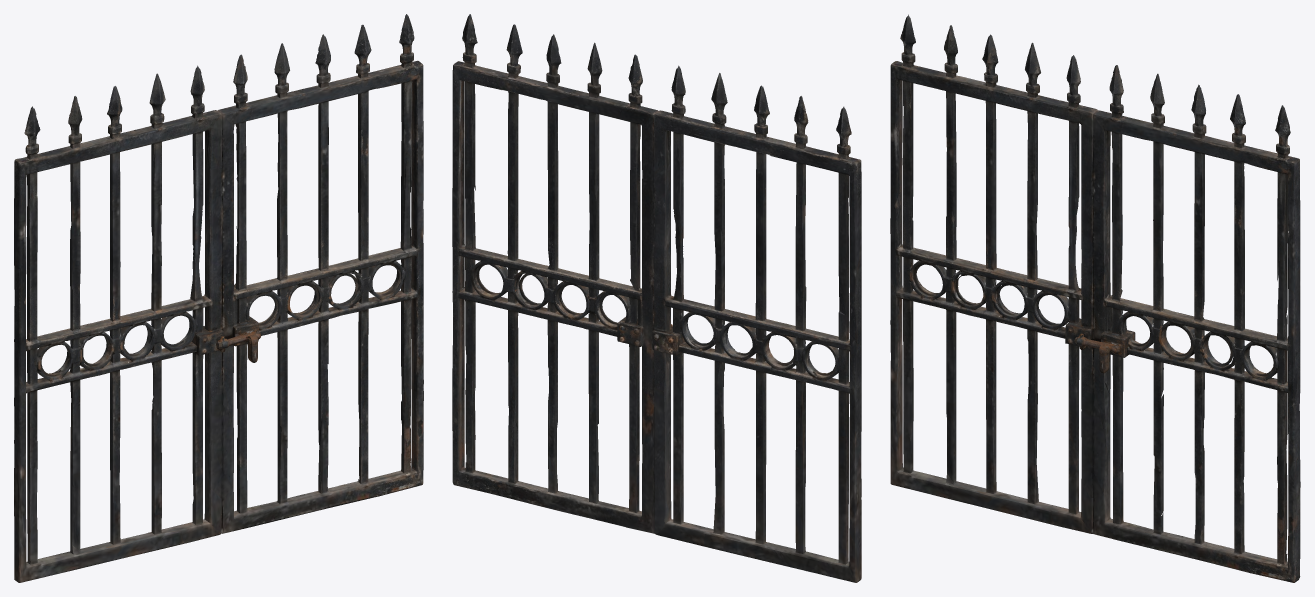
File: w5gate.glb
3 views of the same model, side by side, from view 1: azimuth 30°, elevation 25°; view 2: azimuth 150°, elevation 25°; view 3: azimuth 330°, elevation 25° (orthographic).
Parts seen in each view (by area): view 1: output_unwrapped; view 2: output_unwrapped; view 3: output_unwrapped.
Part boxes in pixels (x1=…): output_unwrapped: x1=14, y1=14, x2=423, y2=582; output_unwrapped: x1=452, y1=14, x2=861, y2=582; output_unwrapped: x1=890, y1=14, x2=1300, y2=582.
Bounding box in the file's own units: 1.25 × 1.4 × 0.1147.
Materials: 1 (1 with a texture image).
